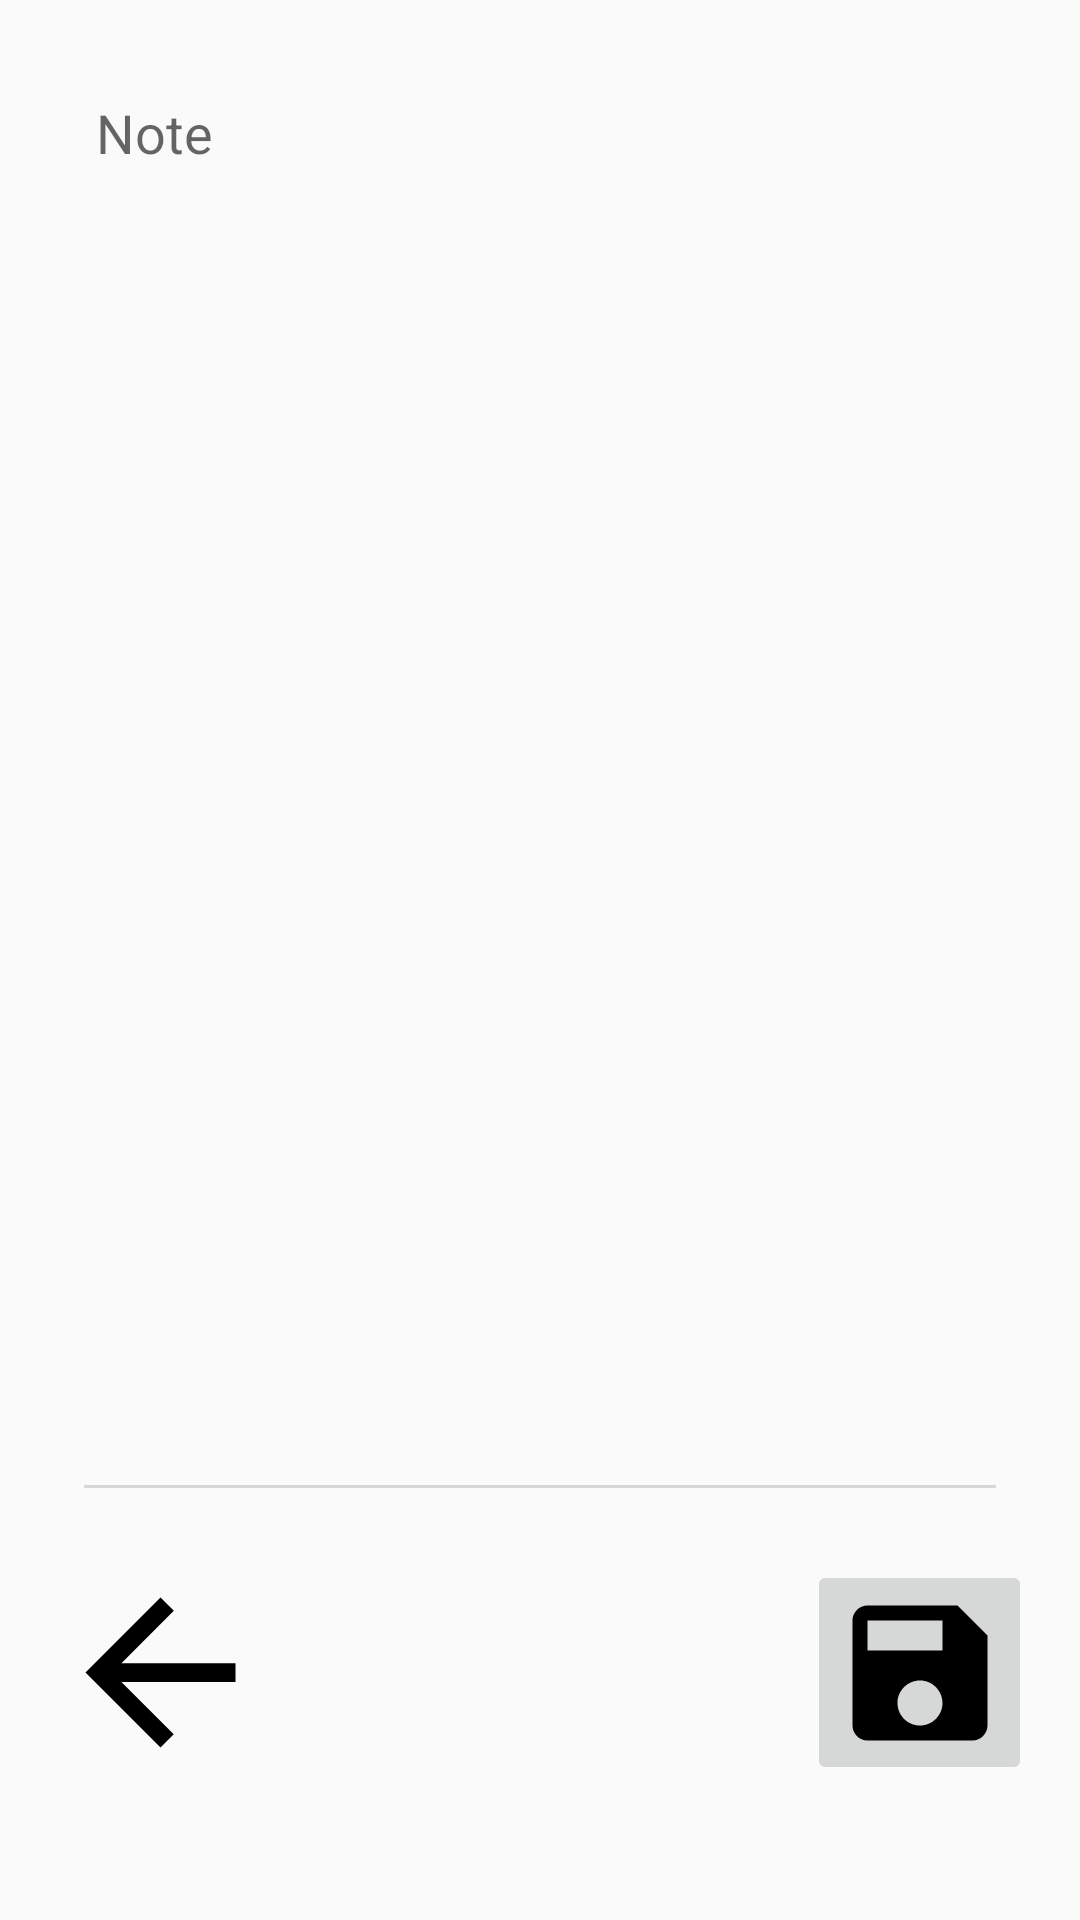

Icons on this 1080px×1920px Android screen, each with the point to tap as point (x, y):
back: point (160, 1672)
save: point (919, 1672)
